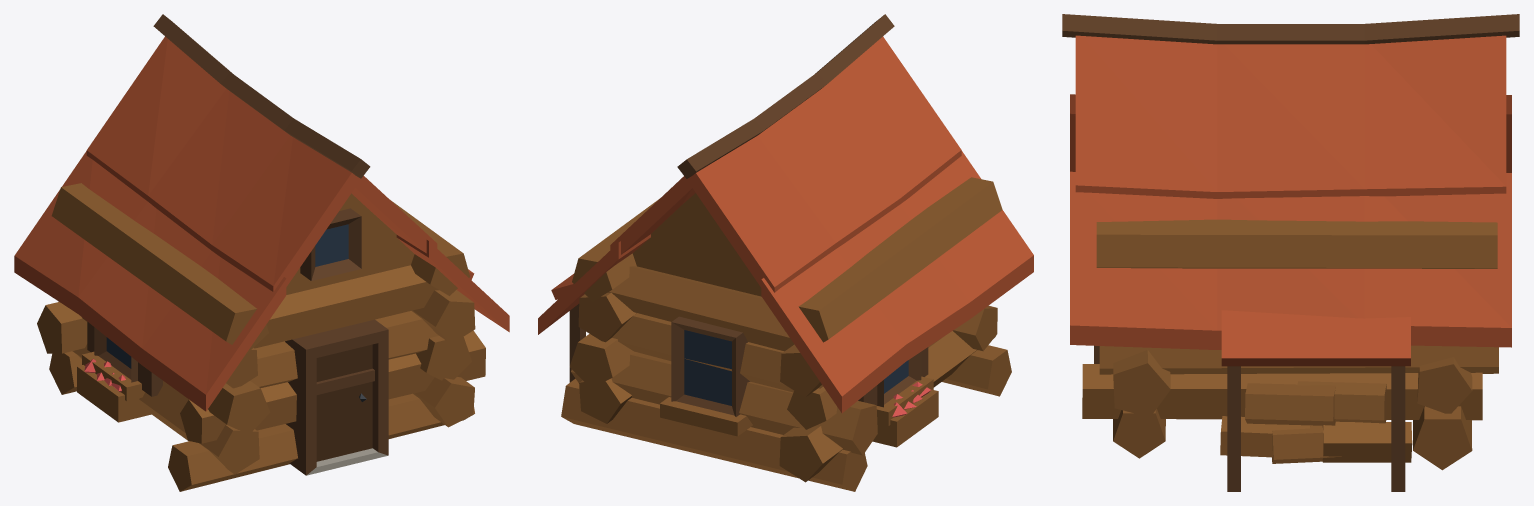
Rendered from cabin_c.glb.
3 views of the same model, side by side, from view 1: azimuth 30°, elevation 25°; view 2: azimuth 150°, elevation 25°; view 3: azimuth 270°, elevation 25° (orthographic). The views are drawn at different scales.
Parts seen in each view (by area): view 1: cabin_c; view 2: cabin_c; view 3: cabin_c.
Part boxes in pixels (x1,y1,x2,y2): cabin_c: [14, 14, 509, 491]; cabin_c: [538, 14, 1033, 491]; cabin_c: [1062, 14, 1519, 491].
Size of the model in its own units: 0.7045 by 0.6713 by 0.724.
